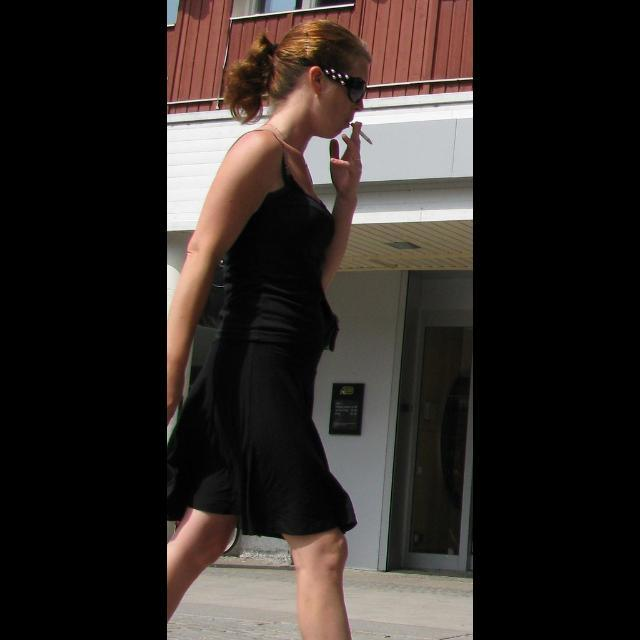rokok: (350, 118, 376, 144)
